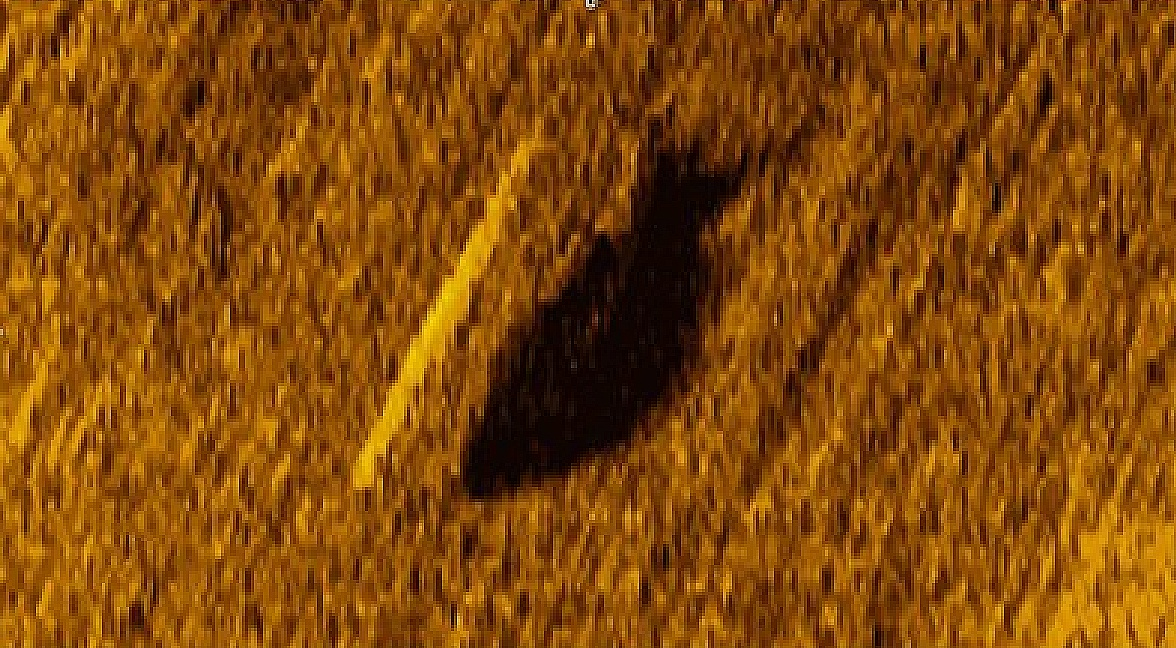ship: (346, 133, 644, 512)
